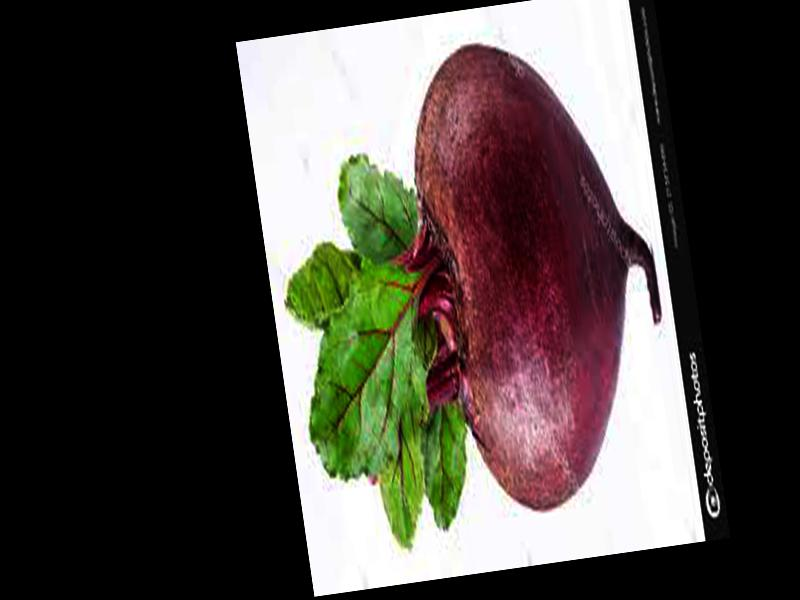Beet: (253, 23, 686, 559)
